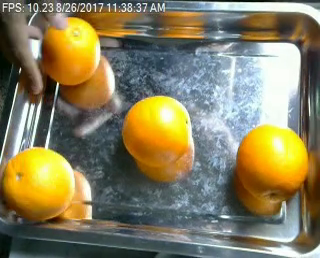Orange: (237, 122, 310, 200), (4, 146, 75, 219), (121, 94, 192, 166)
